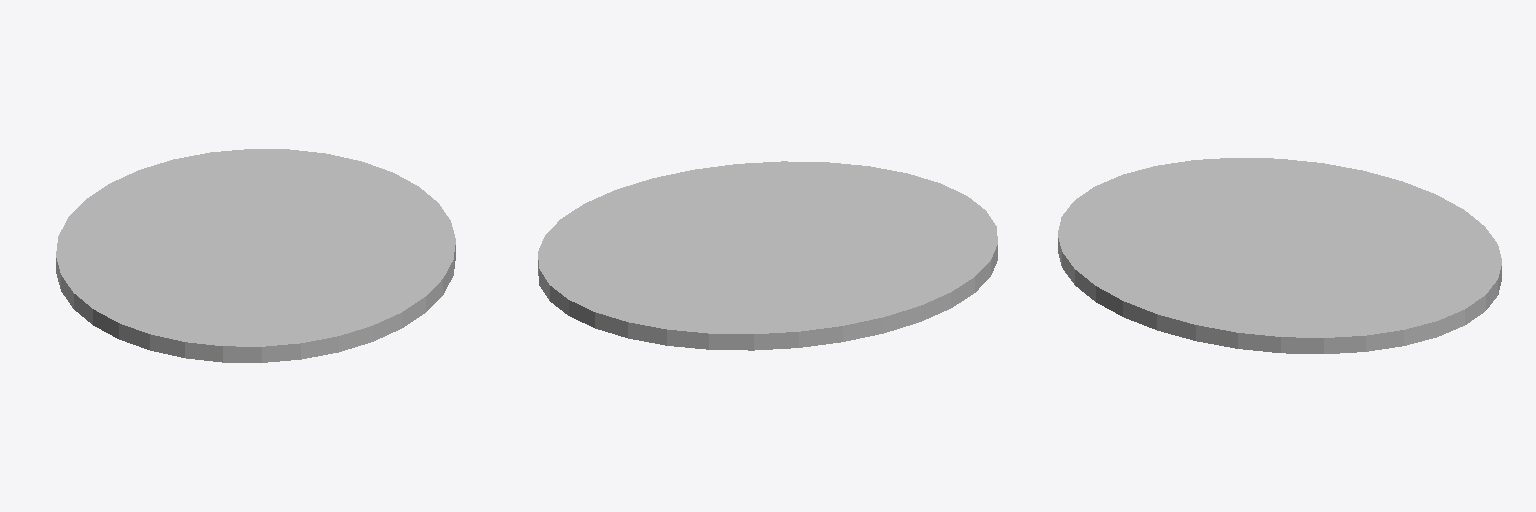
The model's file is cylender.obj.
3 renders of one model, left to right at view 1: azimuth 30°, elevation 25°; view 2: azimuth 150°, elevation 25°; view 3: azimuth 270°, elevation 25°, orthographic.
Parts seen in each view (by area): view 1: Cylinder; view 2: Cylinder; view 3: Cylinder.
Boxes of the visible parts, x1=… form: Cylinder: x1=56, y1=149, x2=455, y2=362; Cylinder: x1=538, y1=161, x2=997, y2=350; Cylinder: x1=1058, y1=158, x2=1501, y2=353.
Bounding box in the file's own units: 2.85 × 0.1196 × 2.97.